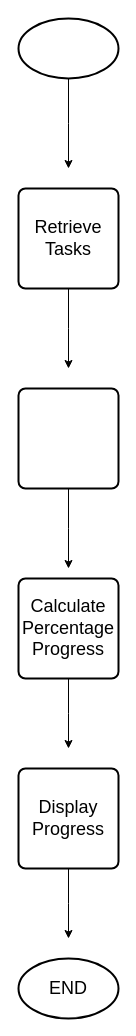
This 136x1036 diagram has some shape labels left out. The shapes that lost their labels are listed below. From the top down, each one's centre as x and y in pixels, then its label:
At (x=68, y=48): "START".
At (x=68, y=438): "Count Completed VS Outstanding".
